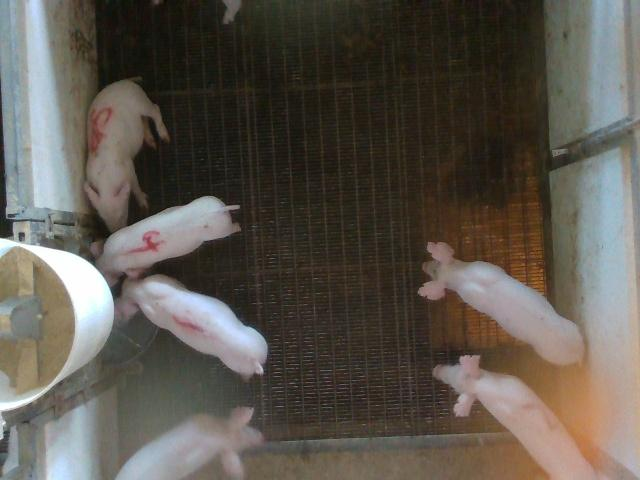pig-1: (115, 274, 268, 378)
pig-2: (434, 355, 605, 479)
pig-4: (96, 196, 239, 275)
pig-5: (84, 78, 170, 232)
